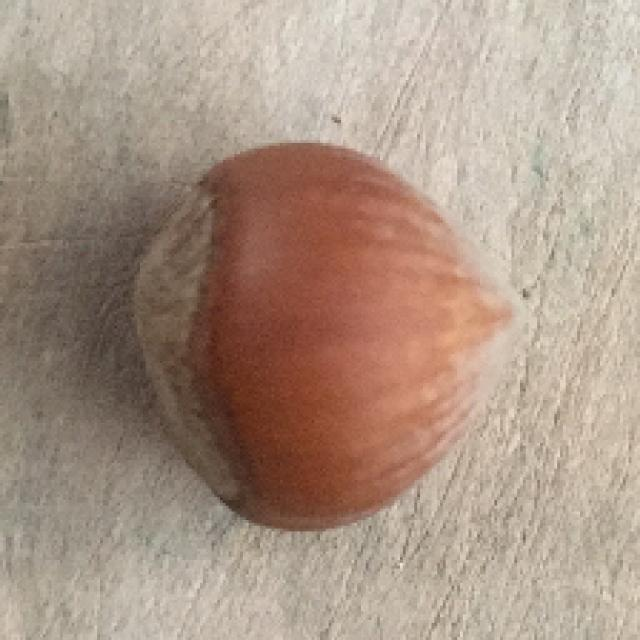qualityHazelnut: (132, 147, 532, 534)
